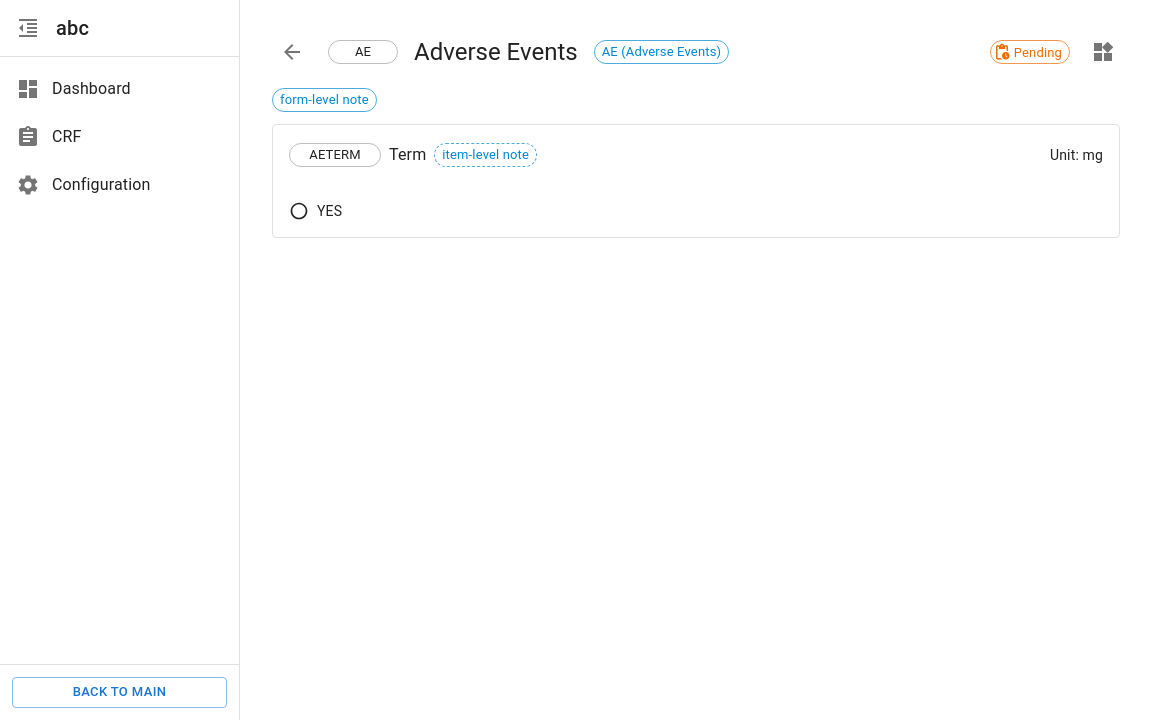
Test: CrfDetailPage — mission-issue entry points › clicking the form chip opens the dialog showing the dialog title
The width and height of the screenshot is (1152, 720).
What coordinates should you click on to do the following:
click the button with test id "crf-form-11"
I would click on:
 (363, 52)
Its box is [328,40,398,64].
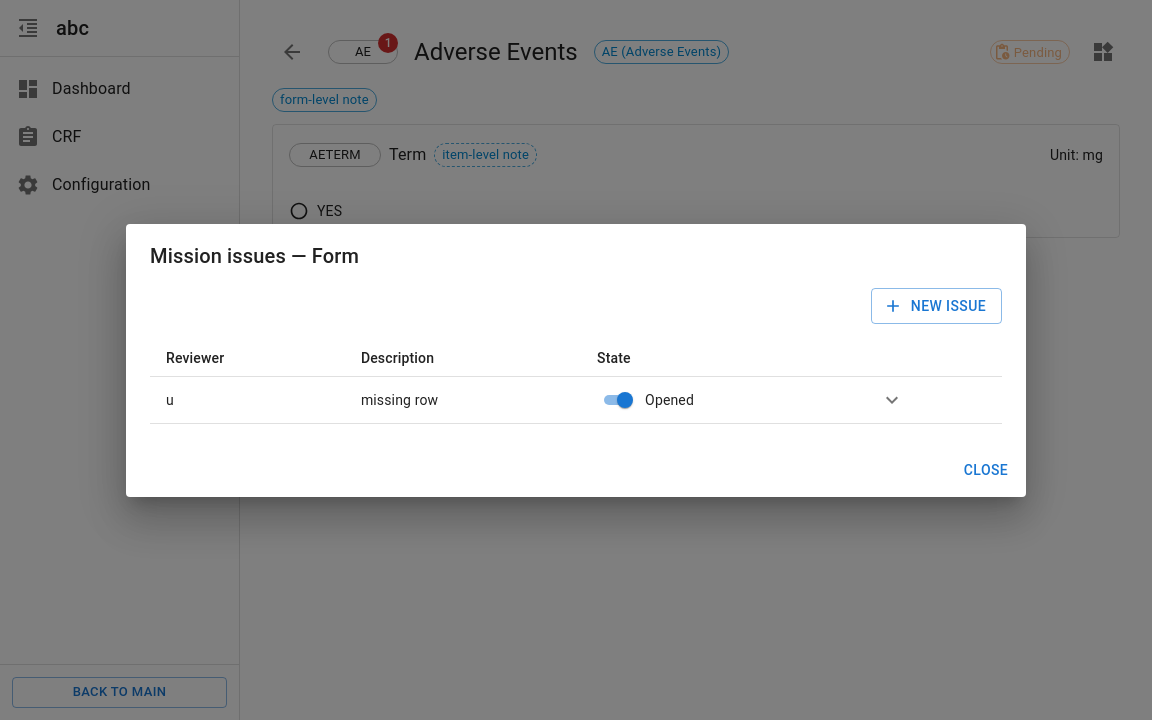
Check: the heading "Mission issues — Form" is shown, box [150,244,359,268]
